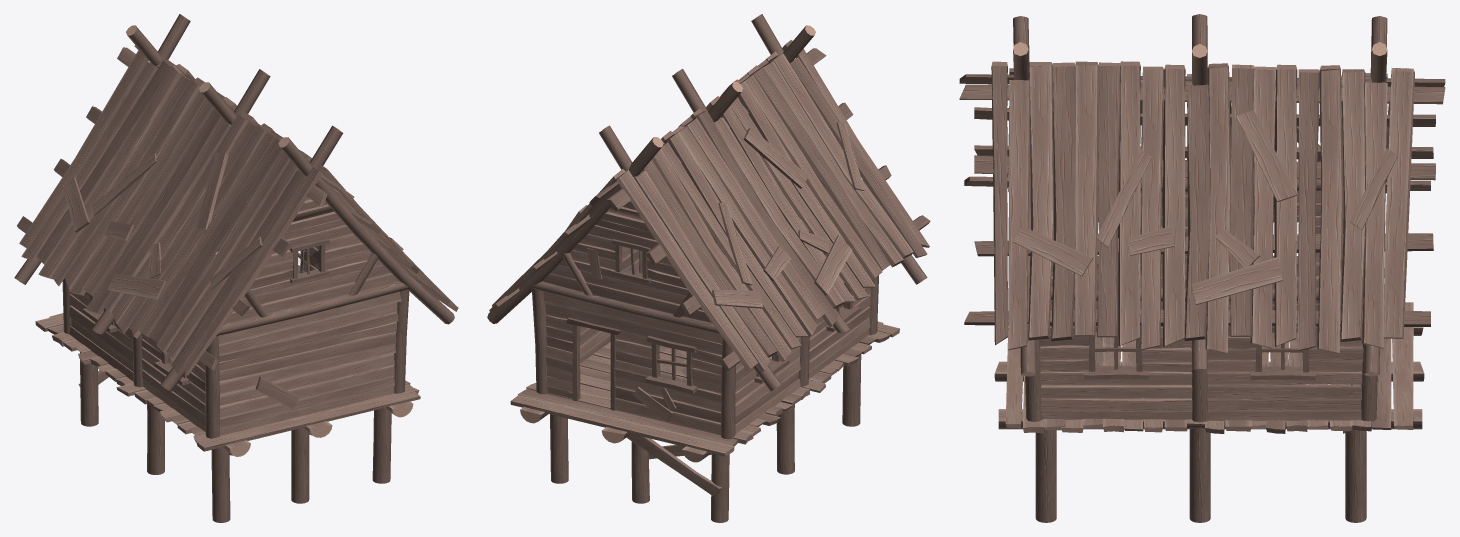
3 views of the same model, side by side, from view 1: azimuth 30°, elevation 25°; view 2: azimuth 150°, elevation 25°; view 3: azimuth 270°, elevation 25° (orthographic). The views are drawn at different scales.
Visible parts, largest first — view 1: submesh_0; view 2: submesh_0, submesh_1; view 3: submesh_0, submesh_1.
Part boxes in pixels (<box>): submesh_0: <box>14,14,458,522</box>; submesh_0: <box>487,14,930,522</box>; submesh_1: <box>621,246,846,382</box>; submesh_0: <box>959,14,1445,522</box>; submesh_1: <box>1095,222,1302,369</box>.
Bounding box in the file's own units: 9.06 × 11.16 × 11.1.
2 materials, 2 textured.
